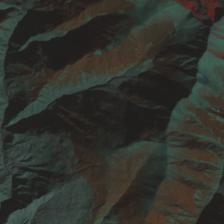landslides: (196, 136, 224, 149), (192, 158, 222, 170), (195, 190, 211, 200), (204, 174, 218, 184)
